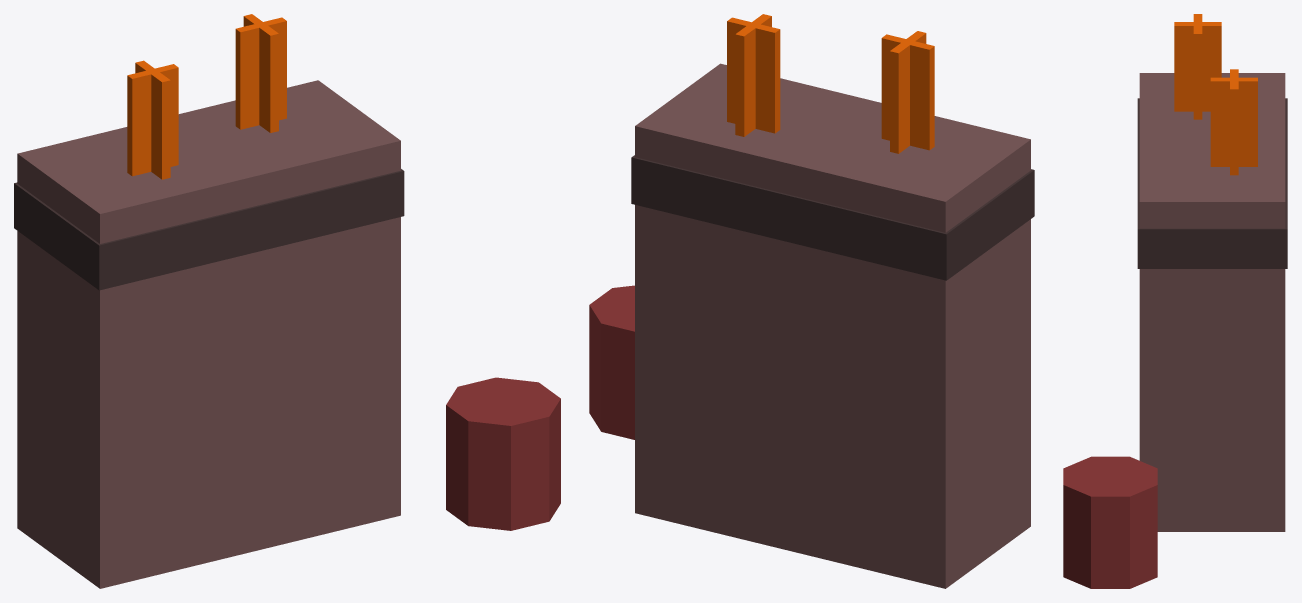
Rendered from ce_ammo2_boltjar_flame_b.obj.
3 renders of one model, left to right at view 1: azimuth 30°, elevation 25°; view 2: azimuth 150°, elevation 25°; view 3: azimuth 270°, elevation 25°, orthographic. The views are drawn at different scales.
Visible parts, largest first — view 1: ce_ammo2_boltjar_flame_b_0, ce_ammo2_boltjar_flame_b_1, ce_ammo2_boltjar_flame_b_6, ce_ammo2_boltjar_flame_b_2, ce_ammo2_boltjar_flame_b_4, ce_ammo2_boltjar_flame_b_3, ce_ammo2_boltjar_flame_b_5; view 2: ce_ammo2_boltjar_flame_b_0, ce_ammo2_boltjar_flame_b_1, ce_ammo2_boltjar_flame_b_6, ce_ammo2_boltjar_flame_b_4, ce_ammo2_boltjar_flame_b_2, ce_ammo2_boltjar_flame_b_5, ce_ammo2_boltjar_flame_b_3; view 3: ce_ammo2_boltjar_flame_b_0, ce_ammo2_boltjar_flame_b_6, ce_ammo2_boltjar_flame_b_1, ce_ammo2_boltjar_flame_b_5, ce_ammo2_boltjar_flame_b_3, ce_ammo2_boltjar_flame_b_2, ce_ammo2_boltjar_flame_b_4.
Part boxes in pixels (x1=…): ce_ammo2_boltjar_flame_b_0: x1=17, y1=80, x2=400, y2=588; ce_ammo2_boltjar_flame_b_1: x1=14, y1=169, x2=404, y2=290; ce_ammo2_boltjar_flame_b_6: x1=446, y1=377, x2=560, y2=530; ce_ammo2_boltjar_flame_b_2: x1=127, y1=64, x2=178, y2=176; ce_ammo2_boltjar_flame_b_4: x1=235, y1=17, x2=286, y2=129; ce_ammo2_boltjar_flame_b_3: x1=135, y1=60, x2=170, y2=179; ce_ammo2_boltjar_flame_b_5: x1=243, y1=14, x2=278, y2=132; ce_ammo2_boltjar_flame_b_0: x1=635, y1=63, x2=1030, y2=588; ce_ammo2_boltjar_flame_b_1: x1=631, y1=155, x2=1034, y2=280; ce_ammo2_boltjar_flame_b_6: x1=589, y1=285, x2=634, y2=439; ce_ammo2_boltjar_flame_b_4: x1=727, y1=17, x2=780, y2=133; ce_ammo2_boltjar_flame_b_2: x1=881, y1=34, x2=934, y2=150; ce_ammo2_boltjar_flame_b_5: x1=735, y1=14, x2=771, y2=136; ce_ammo2_boltjar_flame_b_3: x1=890, y1=31, x2=926, y2=153; ce_ammo2_boltjar_flame_b_0: x1=1139, y1=73, x2=1285, y2=531; ce_ammo2_boltjar_flame_b_6: x1=1063, y1=456, x2=1157, y2=588; ce_ammo2_boltjar_flame_b_1: x1=1137, y1=98, x2=1287, y2=268; ce_ammo2_boltjar_flame_b_5: x1=1210, y1=77, x2=1257, y2=166; ce_ammo2_boltjar_flame_b_3: x1=1174, y1=22, x2=1221, y2=111; ce_ammo2_boltjar_flame_b_2: x1=1193, y1=14, x2=1202, y2=119; ce_ammo2_boltjar_flame_b_4: x1=1230, y1=69, x2=1238, y2=175.
Bounding box in the file's own units: 0.6077 × 0.63 × 0.3077.
